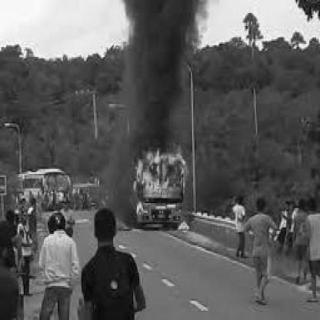Fire: (133, 139, 191, 189), (135, 201, 151, 217), (178, 217, 192, 229)
Smoke: (122, 0, 212, 131)
